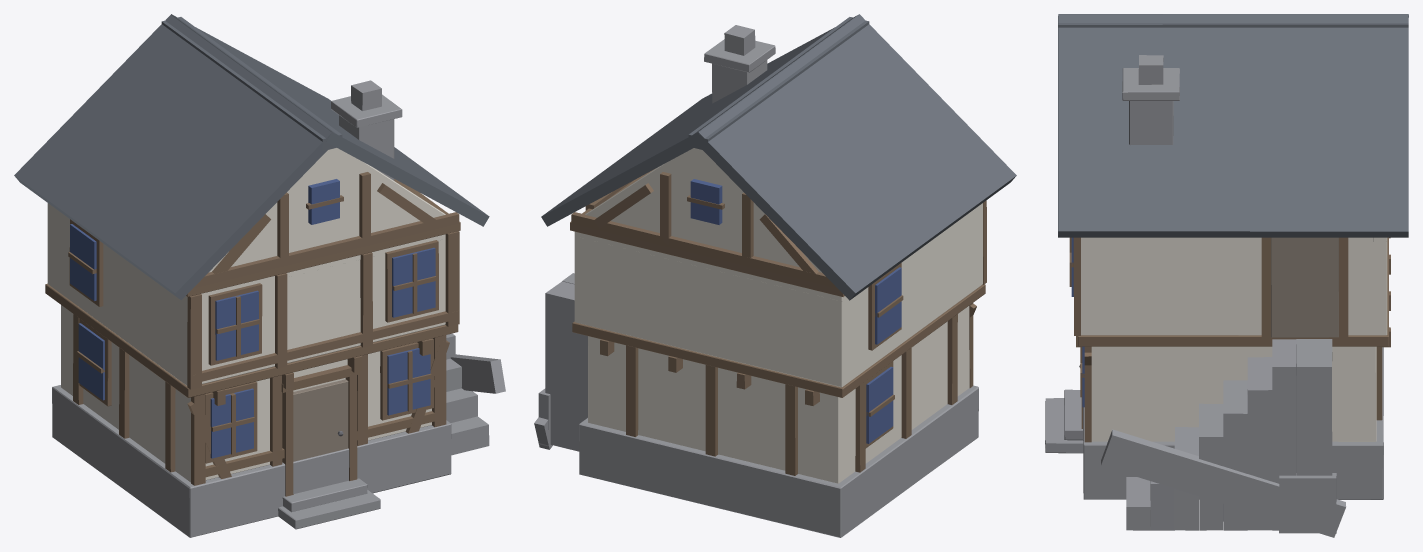
The model's file is house_01.glb.
3 views of the same model, side by side, from view 1: azimuth 30°, elevation 25°; view 2: azimuth 150°, elevation 25°; view 3: azimuth 270°, elevation 25° (orthographic). The views are drawn at different scales.
Parts seen in each view (by area): view 1: house_01; view 2: house_01; view 3: house_01.
Boxes of the visible parts, x1=… form: house_01: x1=14, y1=14, x2=505, y2=537; house_01: x1=534, y1=14, x2=1016, y2=537; house_01: x1=1045, y1=14, x2=1408, y2=537.
Bounding box in the file's own units: 6.15 × 6.5 × 5.08.
